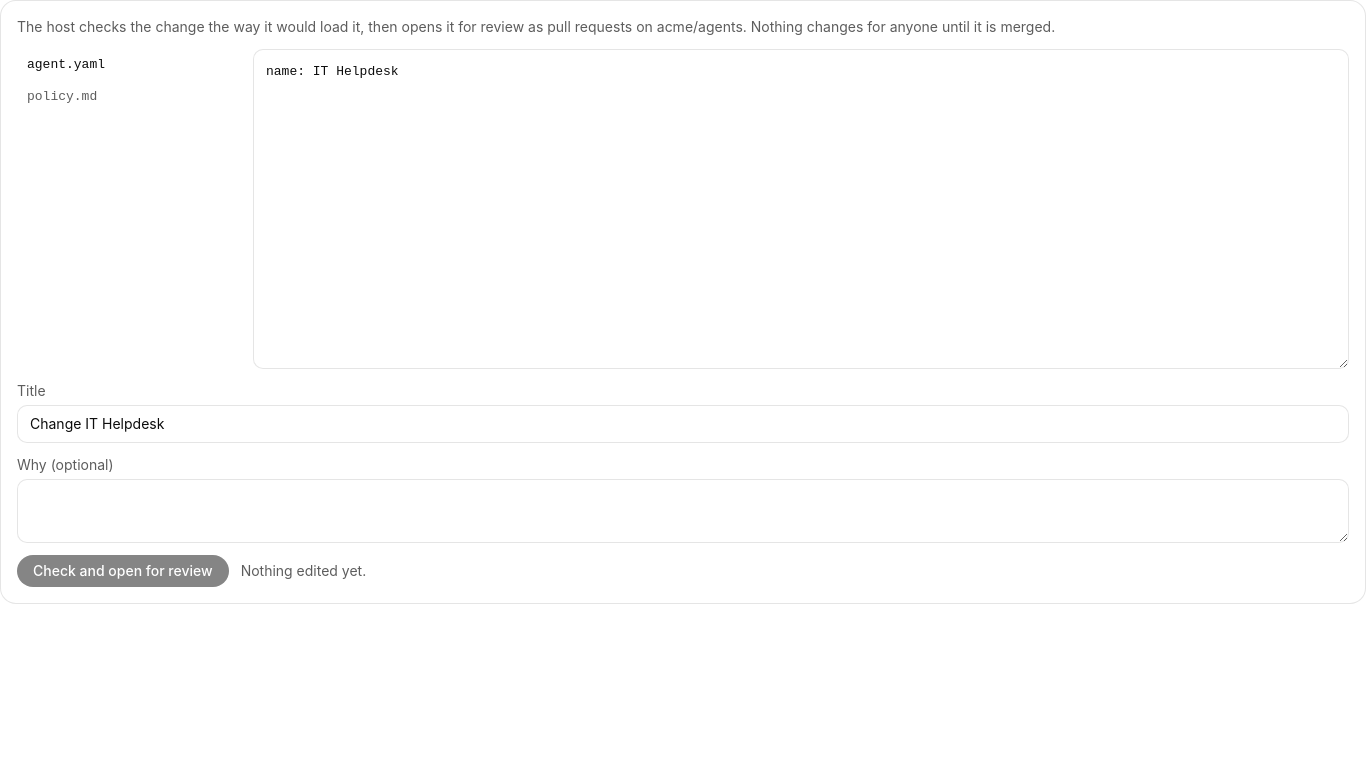
Test: Proposing a change › sends only the files that were edited, and shows where it was opened and what it does
The image size is (1366, 768).
Expected: the text "Nothing edited yet." is shown, [241,561,366,581]
Expected: the button "Check and open for review" is disabled, [17,555,229,587]
Step 1. Click the button "policy.md" → (129, 97), box [17,81,241,113]
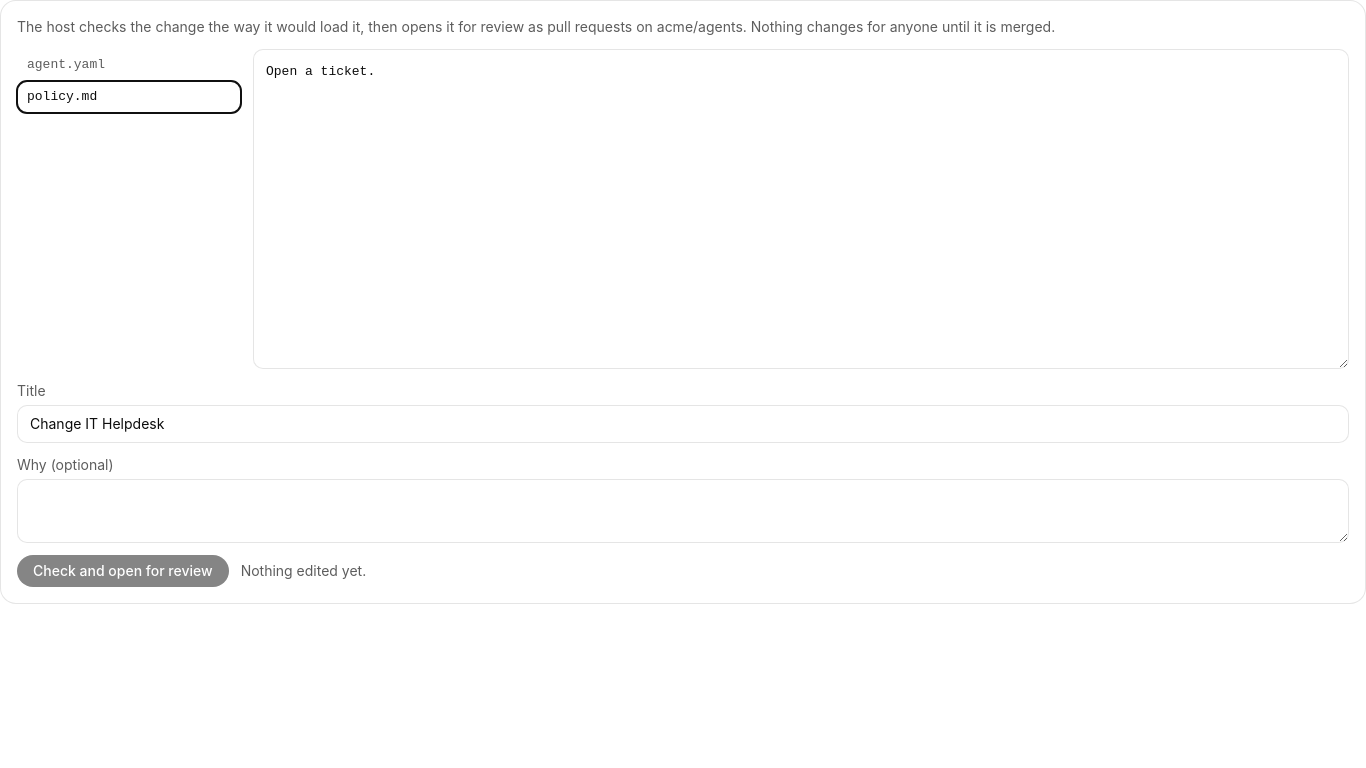
Step 2. Replace the text in the text box named "Contents of agents/helpdesk/policy.md" with "Be brief." → (801, 209), box [253,49,1349,369]
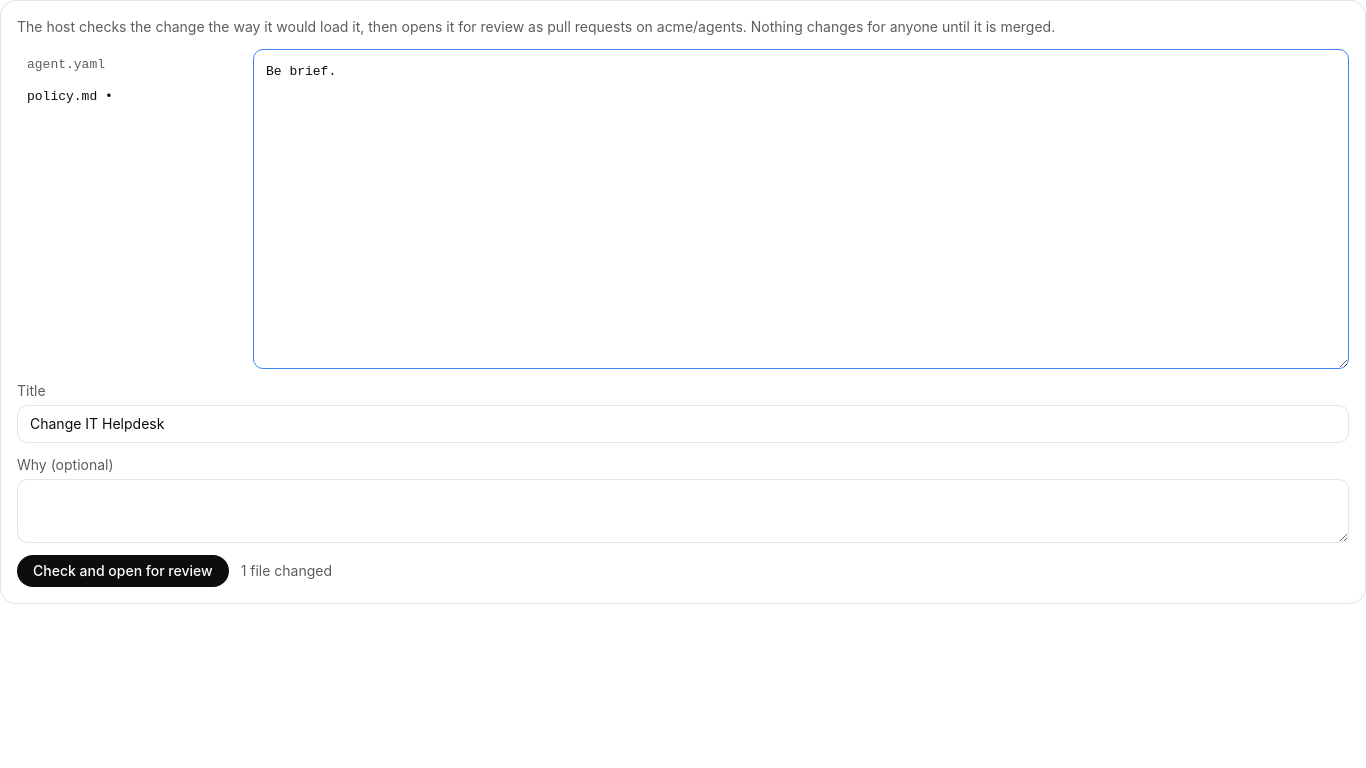
Expected: the button "policy.md •" is shown, [17,81,241,113]
Step 3. Click the button "Check and open for review" → (123, 571), box [17,555,229,587]
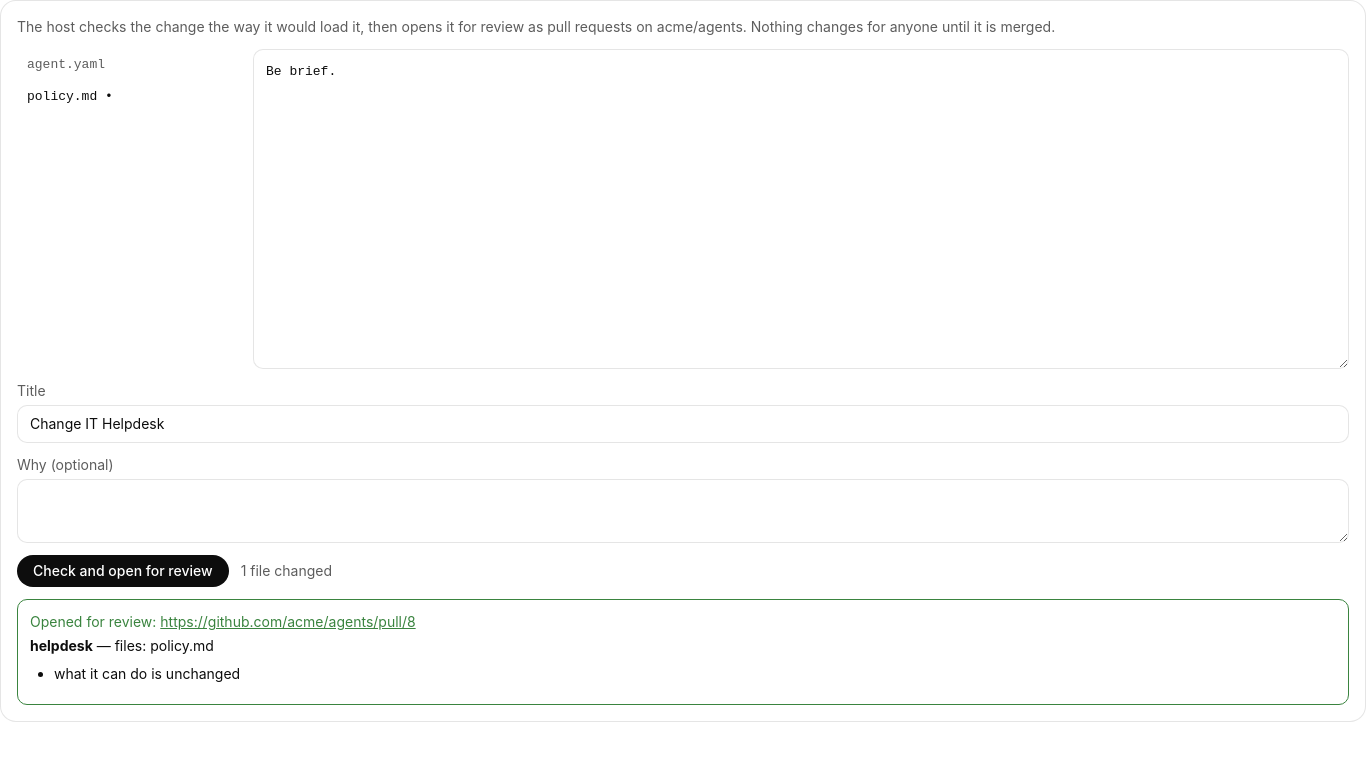
Expected: the message shows "Opened for review: https://github.com/acme/agents/pull/8", [17,599,1349,705]
Expected: the message shows "what it can do is unchanged", [54,665,240,682]
